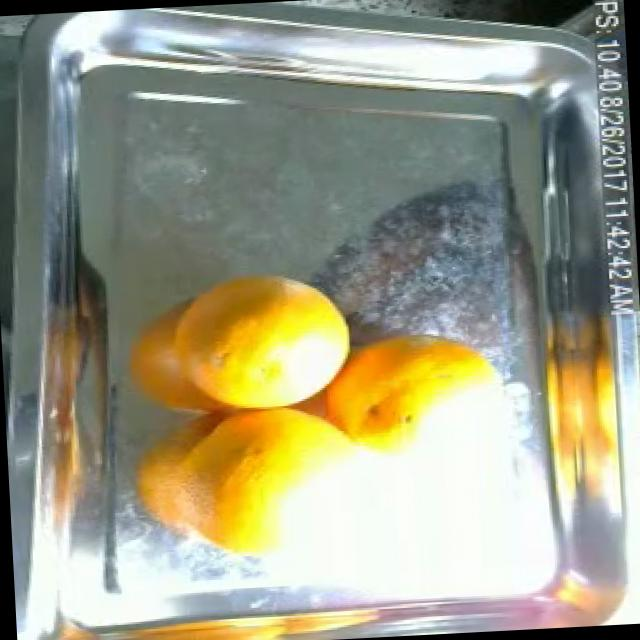Fruit: (175, 256, 368, 423)
